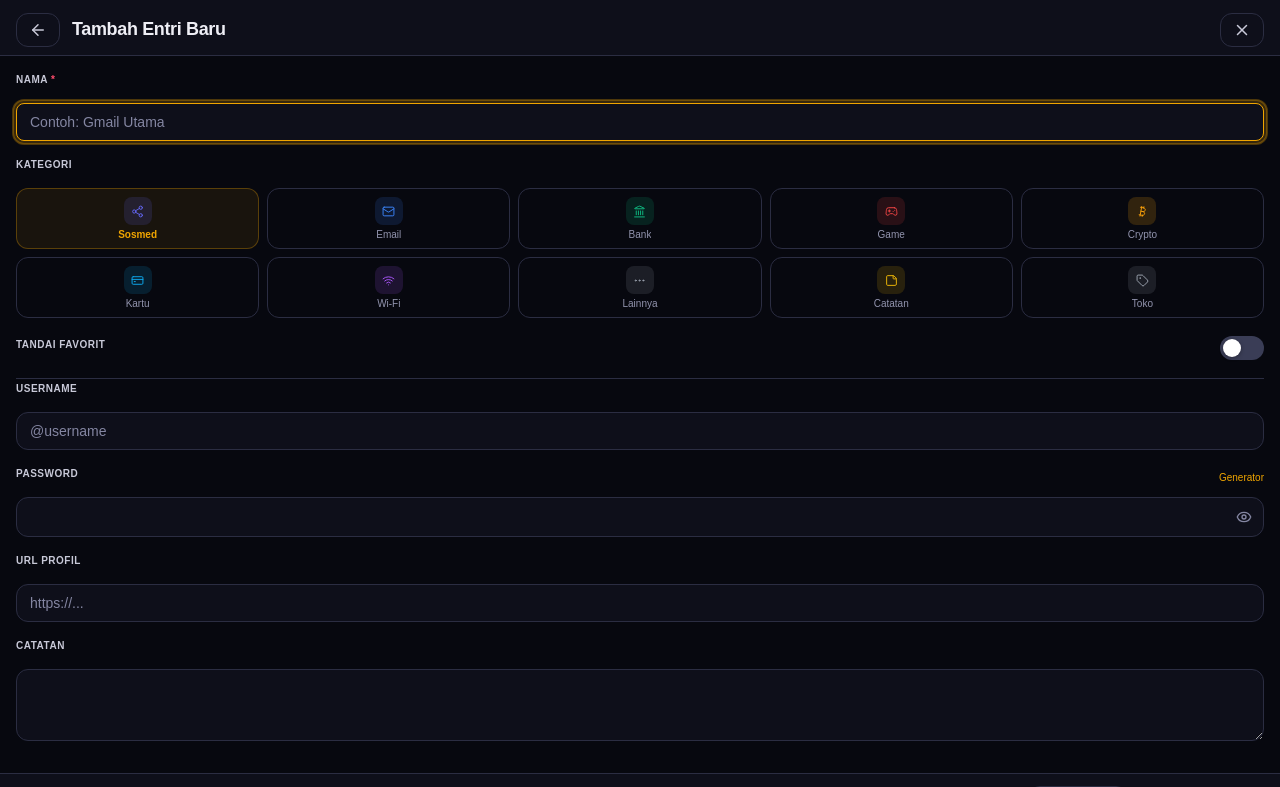
Test: EntryForm — Field kustom tipe "multi" (v1.10.1) › beralih ke mode Teks lalu kembali ke Per Isian mempertahankan isi
Click the button titled "Toko" at (1142, 288), box [1021, 257, 1264, 318]
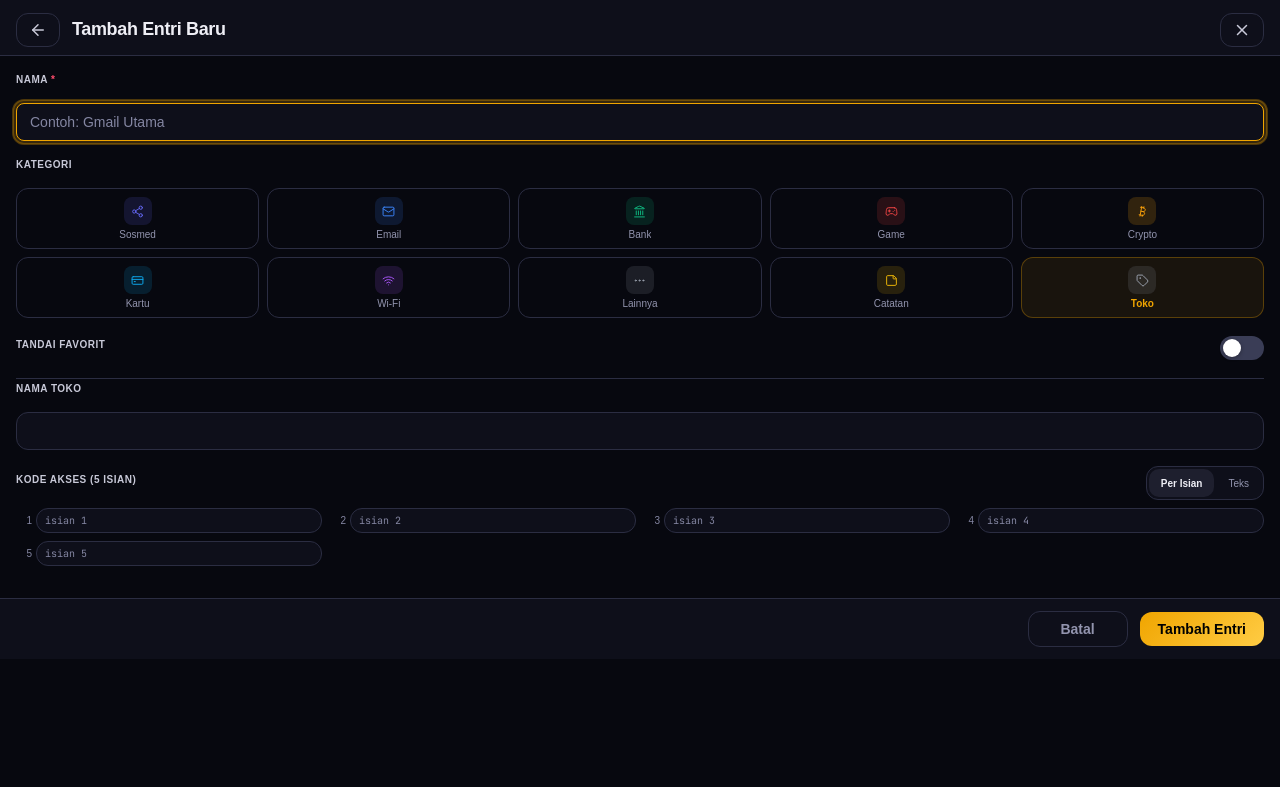
Type "SATU" into the field with placeholder "isian 1" at (179, 520), box [36, 508, 322, 533]
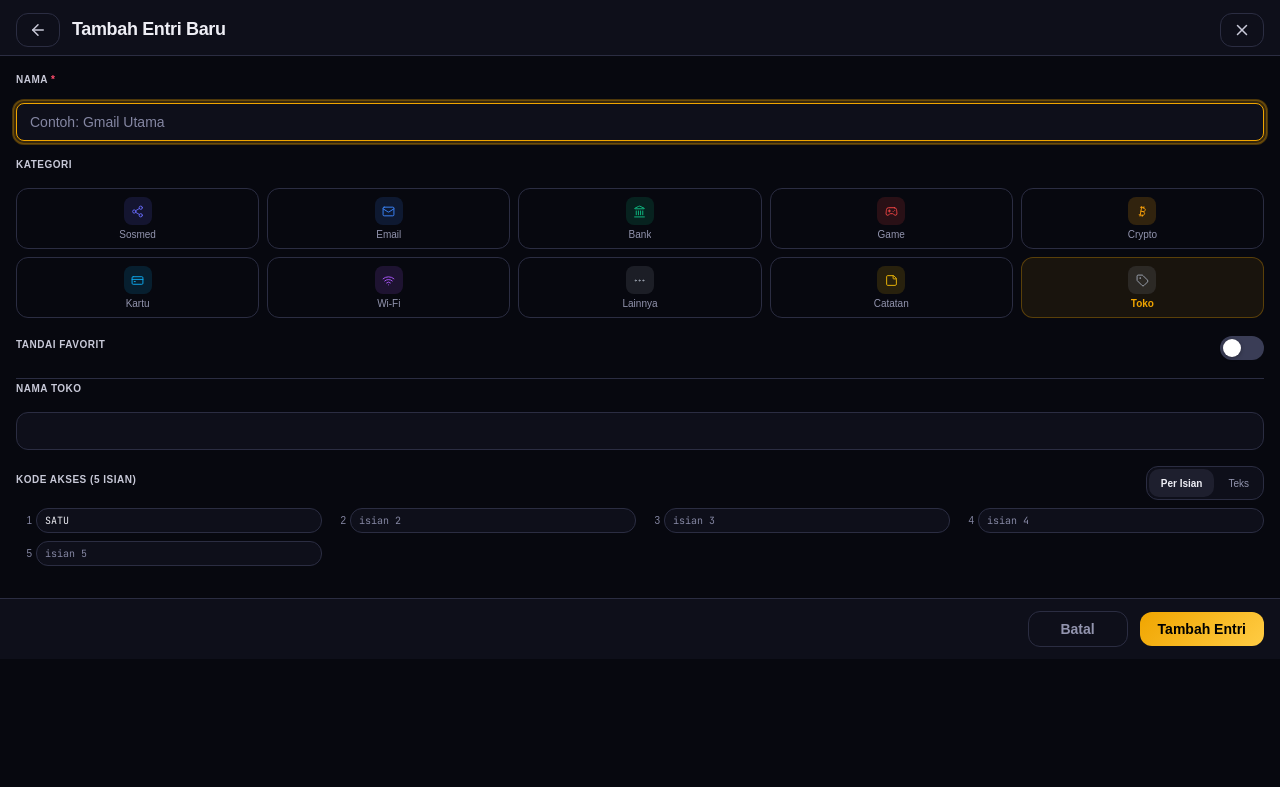
Type "DUA" into the field with placeholder "isian 2" at (493, 520), box [350, 508, 636, 533]
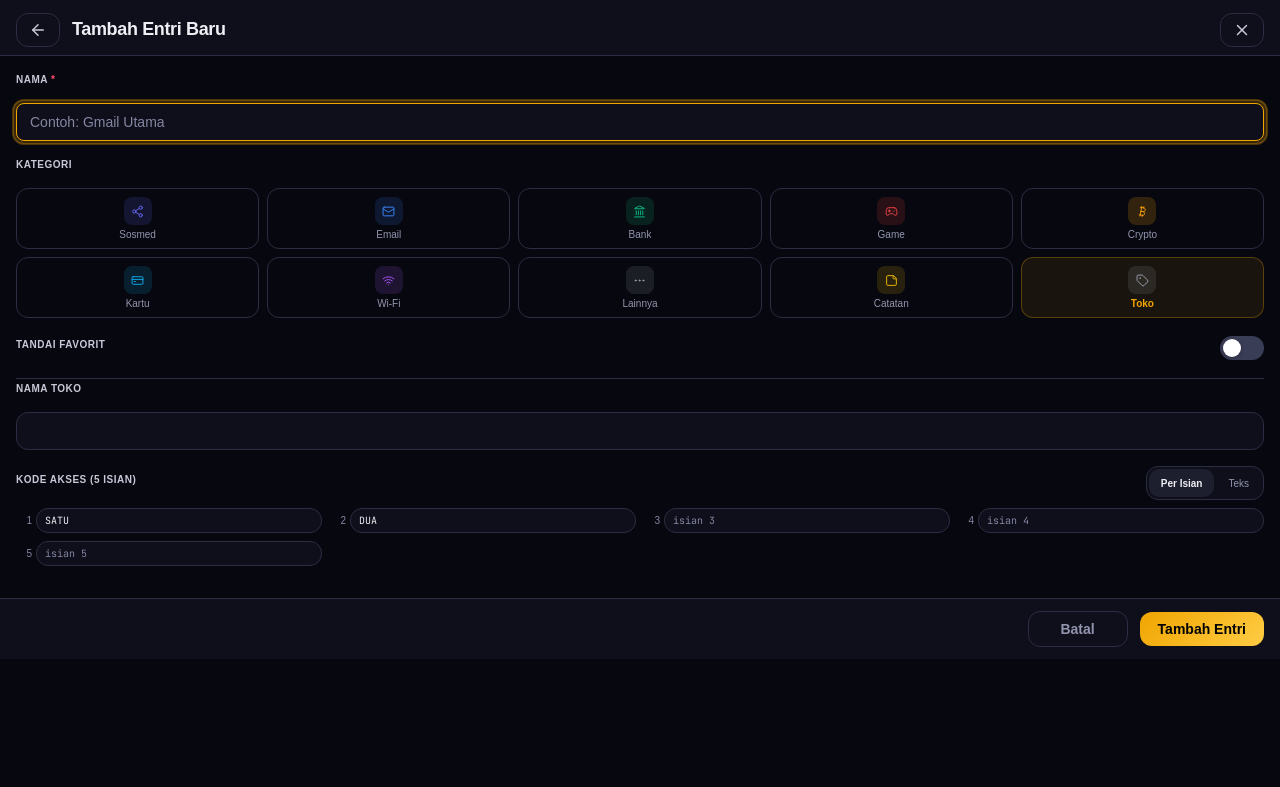
Click the button "Teks" at (1239, 483), box [1216, 469, 1261, 497]
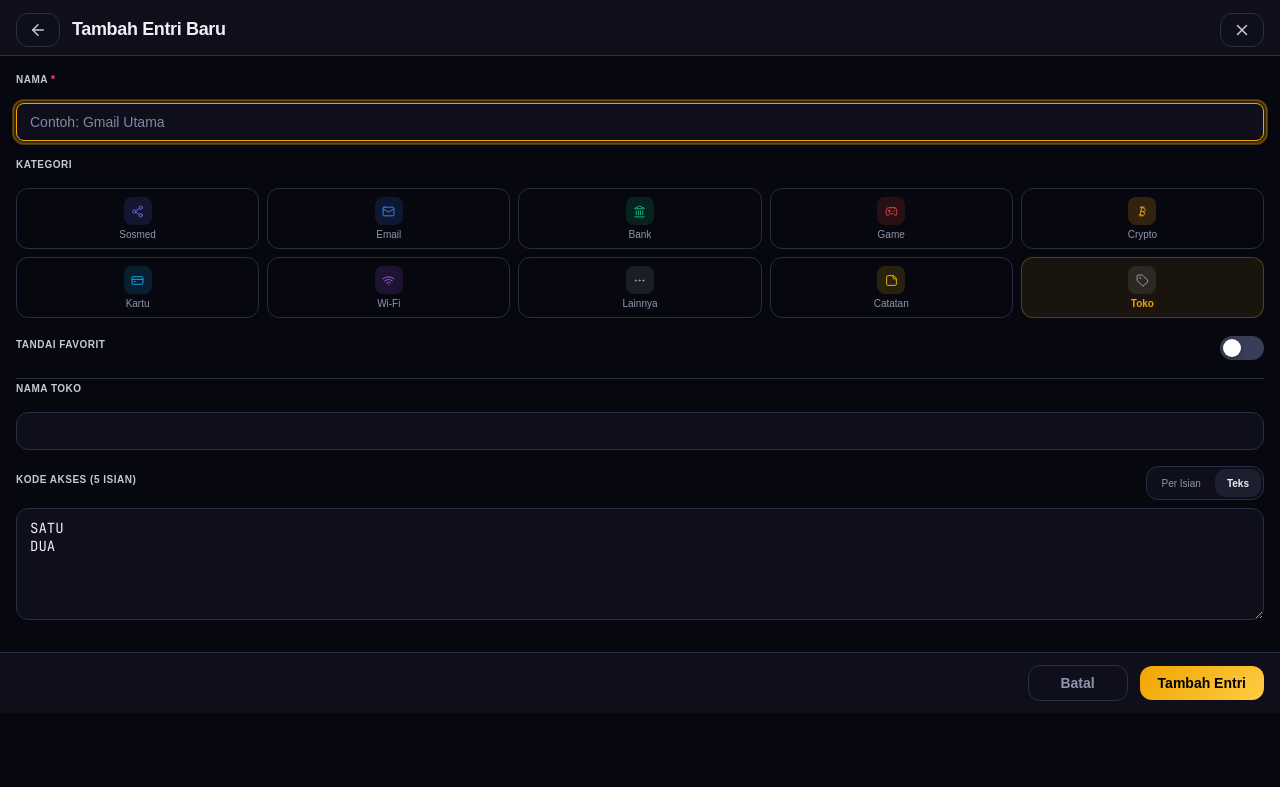
Click the button "Per Isian" at (1181, 483), box [1150, 469, 1213, 497]
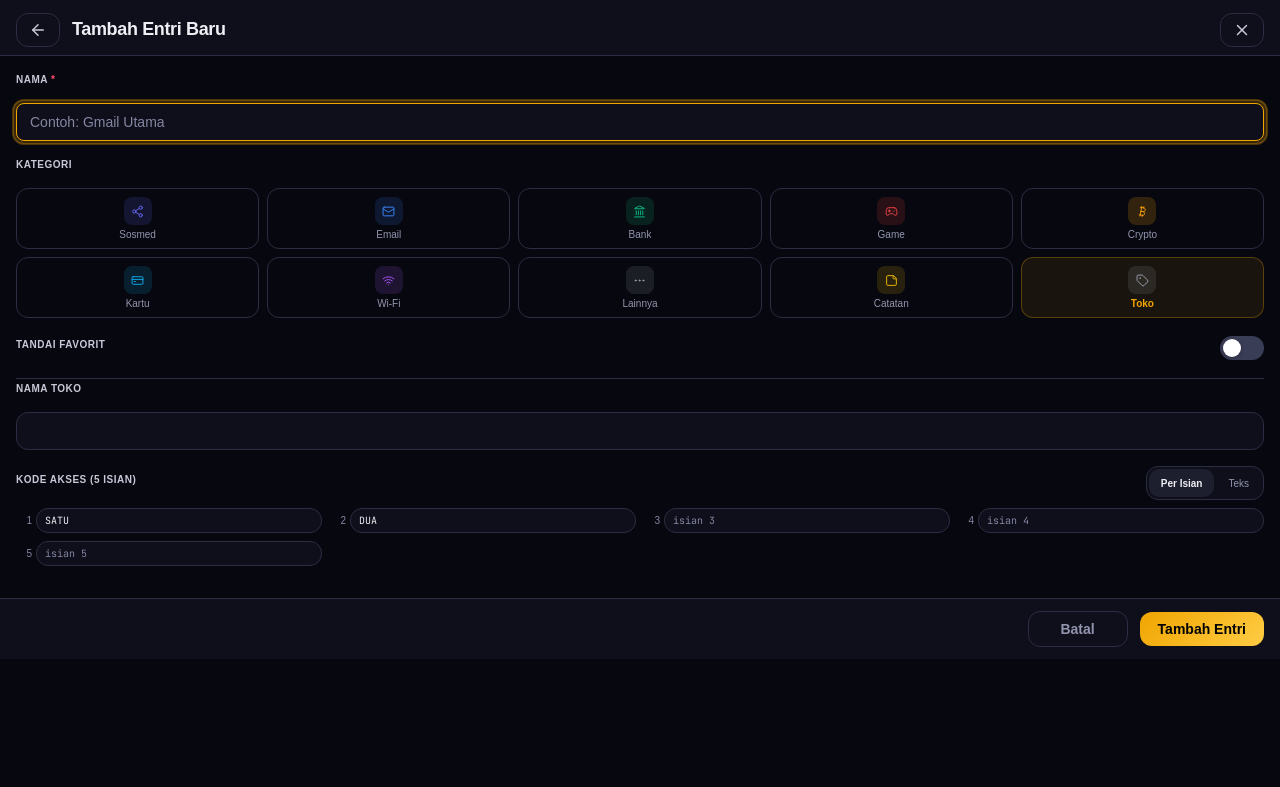
Result: the 1st field with placeholder "isian 1" holds "SATU" at [36, 508, 322, 533]
Result: the 2nd field with placeholder "isian 2" holds "DUA" at [350, 508, 636, 533]
